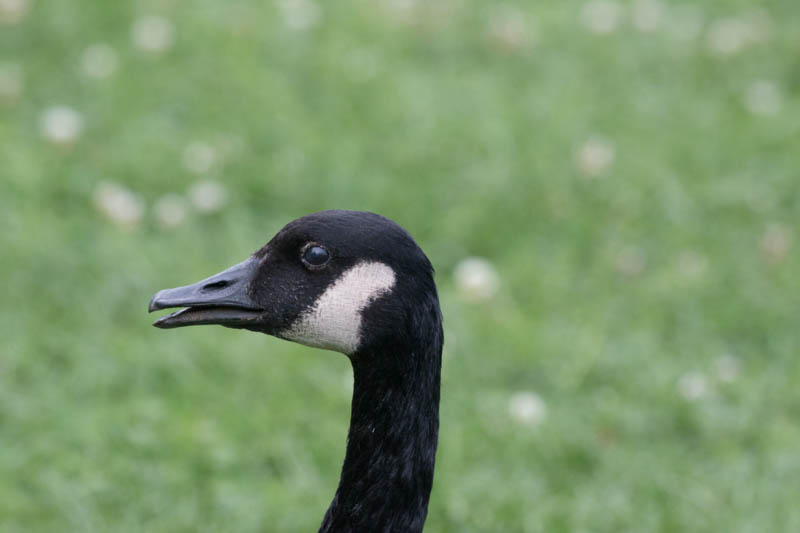goose-head: (148, 209, 443, 358)
